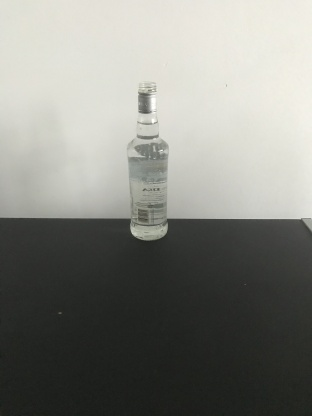nakretka: (136, 80, 158, 115)
